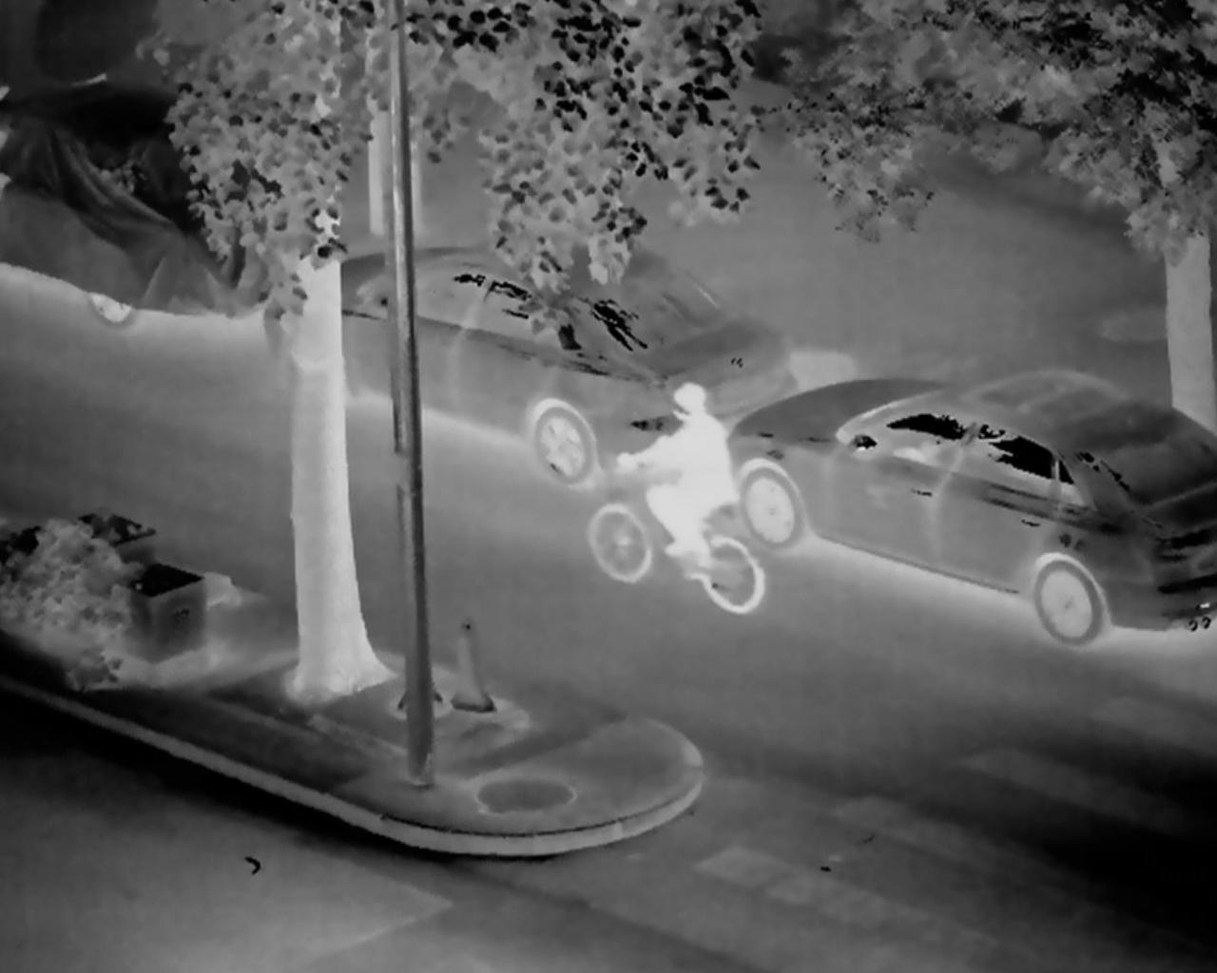person: (582, 383, 746, 587)
